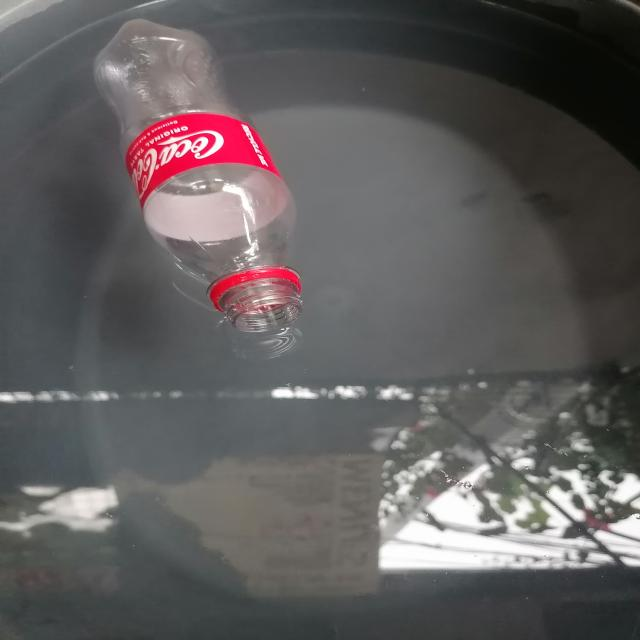Plastic Bottle: (64, 11, 343, 352)
